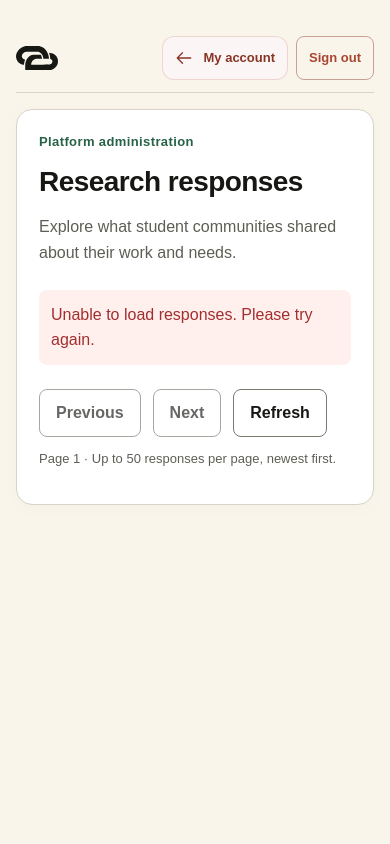
it: research response administration › can retry a failed request
Expected: the message shows "Unable to load responses", [51,306,312,348]
Click the button "Refresh" at (280, 413), box [233,389,327,437]
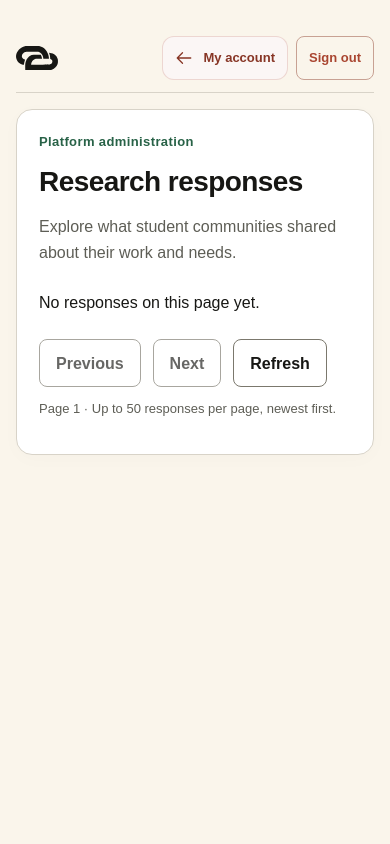
Now the text "No responses on this page yet." is shown, box [39,294,260,311]
Now the message "Unable to load responses. Please try again." is gone
